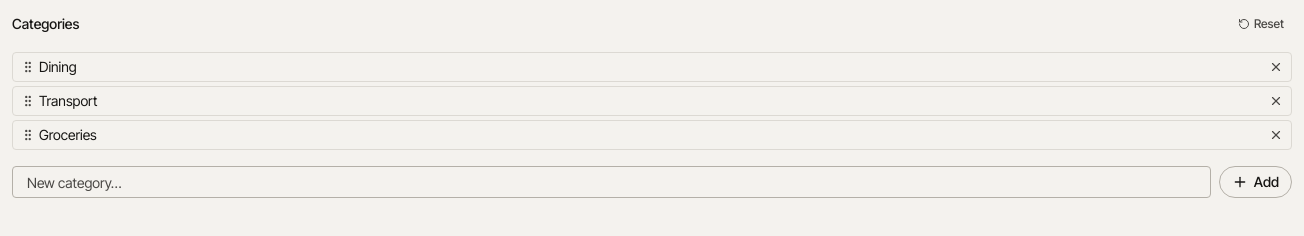
Test: CategoryEditor — add › shows an error for empty input
What coordinates should you click on to do the following:
click the button with aria-label "Add category"
I would click on:
 (1255, 182)
Its box is [1219, 166, 1292, 198].
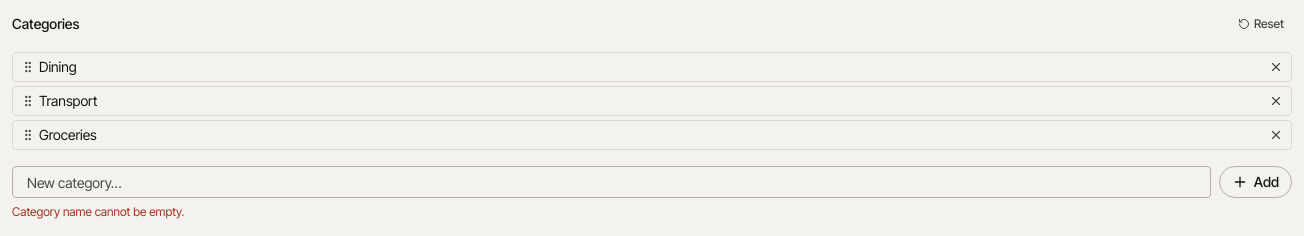
Expected: the message "Category name cannot be empty." is shown, [12, 204, 184, 219]
